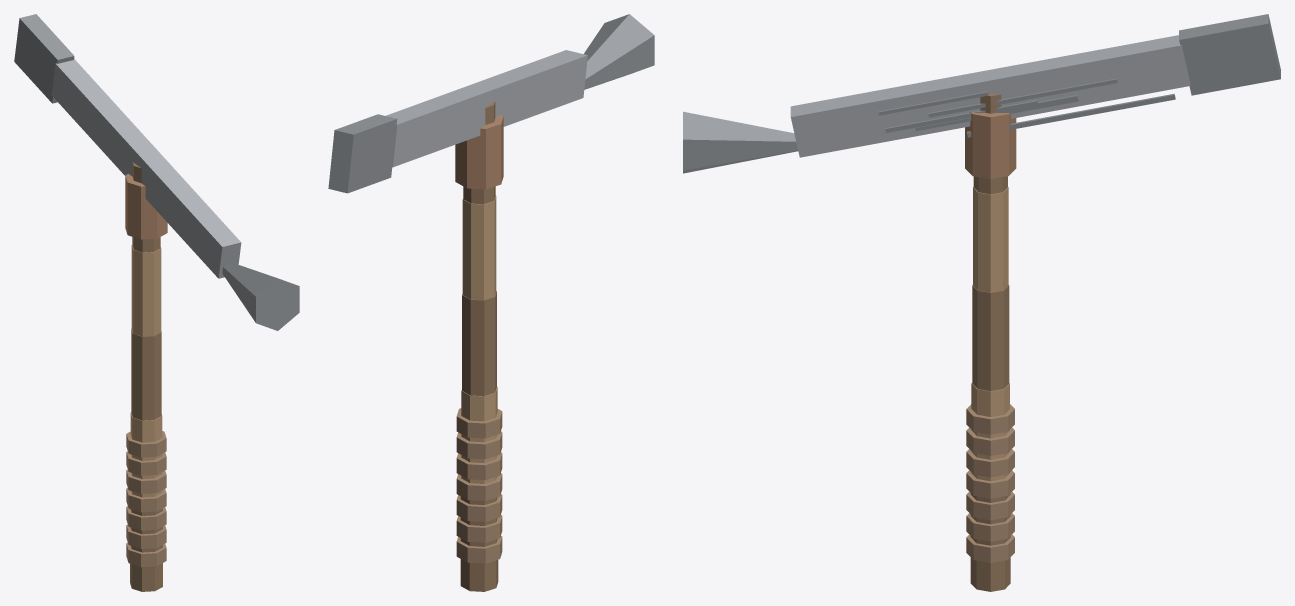
File: metal_pickaxe.glb
3 views of the same model, side by side, from view 1: azimuth 30°, elevation 25°; view 2: azimuth 150°, elevation 25°; view 3: azimuth 270°, elevation 25° (orthographic). The views are drawn at different scales.
Visible parts, largest first — view 1: metal_pickaxe; view 2: metal_pickaxe; view 3: metal_pickaxe.
Part boxes in pixels (x1=…): metal_pickaxe: x1=14, y1=14, x2=299, y2=591; metal_pickaxe: x1=328, y1=14, x2=654, y2=591; metal_pickaxe: x1=683, y1=14, x2=1280, y2=591.
Bounding box in the file's own units: 0.1039 × 1.09 × 1.05.
